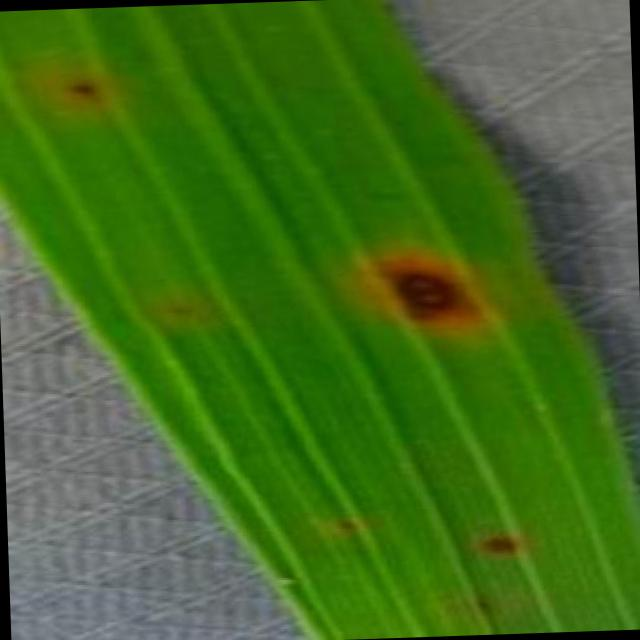Rice_Brownspot: (340, 226, 504, 358), (347, 174, 414, 208), (464, 524, 523, 558), (57, 69, 103, 101), (322, 508, 368, 540), (156, 292, 198, 322), (462, 589, 501, 620)
